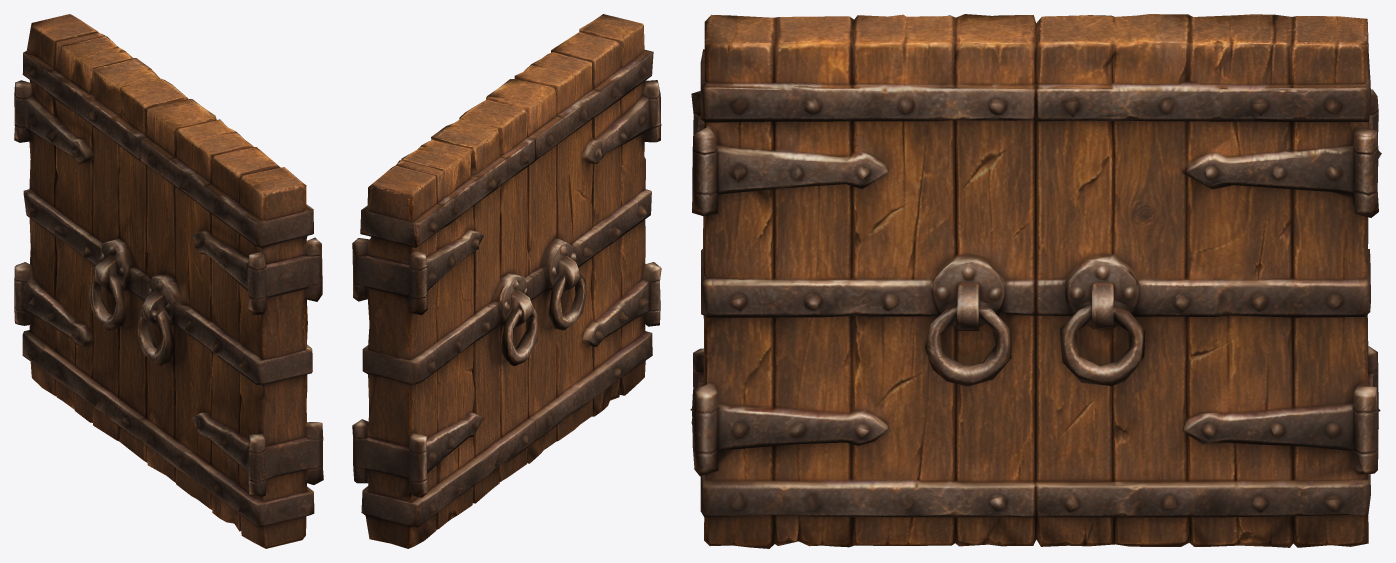
The model's file is porta-dupla.glb.
3 views of the same model, side by side, from view 1: azimuth 30°, elevation 25°; view 2: azimuth 150°, elevation 25°; view 3: azimuth 270°, elevation 25° (orthographic). The views are drawn at different scales.
Parts seen in each view (by area): view 1: tripo_node_a9676ba9-a2ae-4df0-97a5-497d8d3bb223; view 2: tripo_node_a9676ba9-a2ae-4df0-97a5-497d8d3bb223; view 3: tripo_node_a9676ba9-a2ae-4df0-97a5-497d8d3bb223.
Boxes of the visible parts, bbox=[...] form: tripo_node_a9676ba9-a2ae-4df0-97a5-497d8d3bb223: bbox=[14, 14, 323, 548]; tripo_node_a9676ba9-a2ae-4df0-97a5-497d8d3bb223: bbox=[352, 14, 661, 548]; tripo_node_a9676ba9-a2ae-4df0-97a5-497d8d3bb223: bbox=[690, 14, 1381, 548].
Size of the model in its own units: 0.5534 by 2 by 2.47.
1 material, 1 textured.
